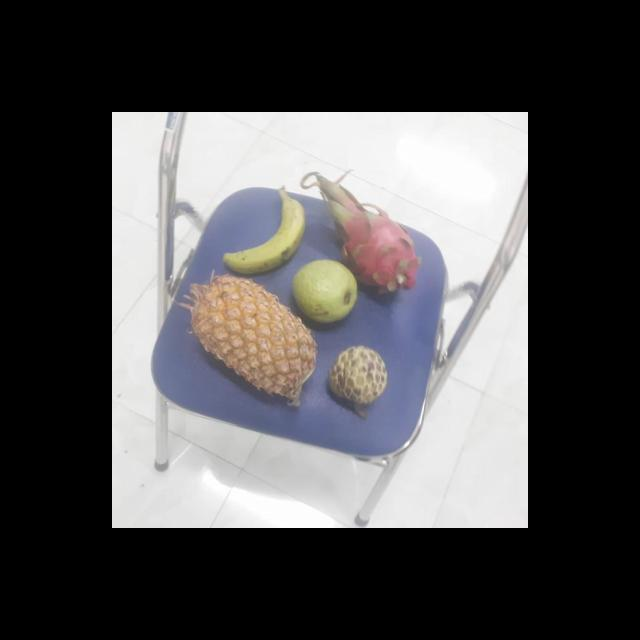Sakya fruit: (326, 346, 388, 404)
banana: (220, 192, 304, 276)
guava: (290, 260, 360, 326)
pineapple: (184, 276, 317, 404)
pitaya: (324, 200, 414, 292)
